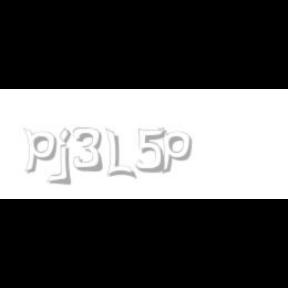3: (74, 128, 104, 172)
5: (136, 128, 166, 174)
L: (106, 128, 134, 180)
j: (57, 128, 86, 186)
p: (159, 128, 196, 174), (24, 128, 60, 174)
